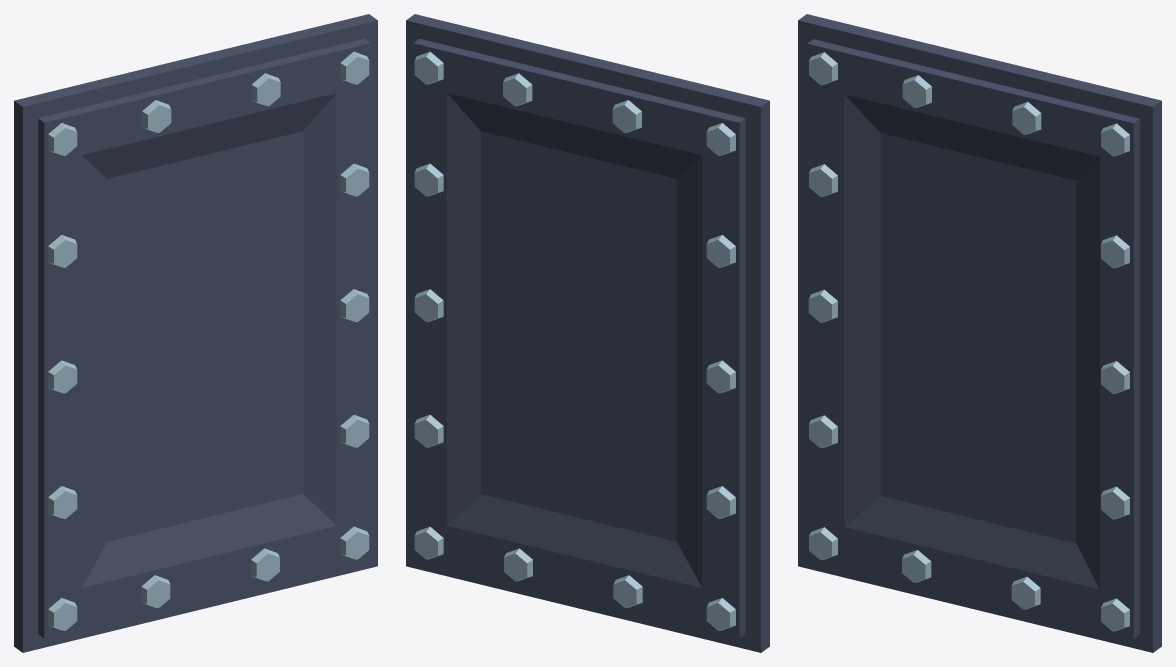
File: plate_1.fbx
The picture shows the model from 3 angles, left to right: view 1: azimuth 30°, elevation 25°; view 2: azimuth 150°, elevation 25°; view 3: azimuth 330°, elevation 25°; orthographic projection.
Visible parts, largest first — view 1: Cube.001; view 2: Cube.001; view 3: Cube.001.
Part boxes in pixels (box(x1,y1,x2,y2)): Cube.001: box(14, 14, 377, 652); Cube.001: box(406, 14, 769, 652); Cube.001: box(798, 14, 1161, 652).
Size of the model in its own units: 136 by 200 by 19.38.
